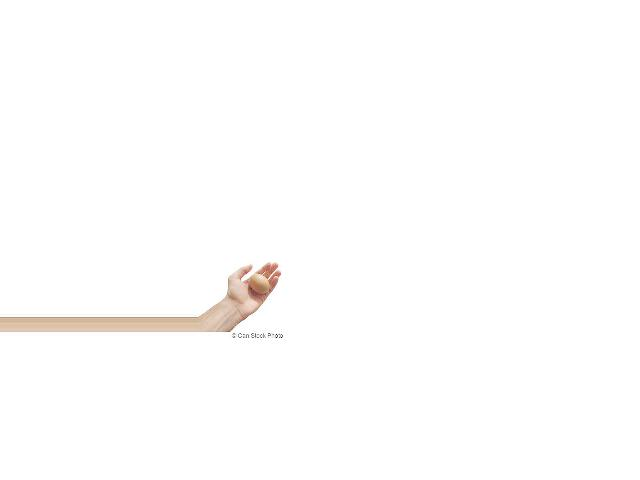egg: (251, 274, 270, 293)
